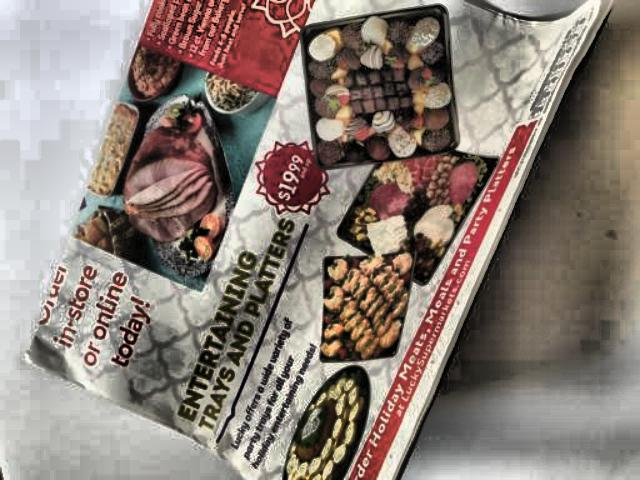Paper: (21, 0, 622, 480)
